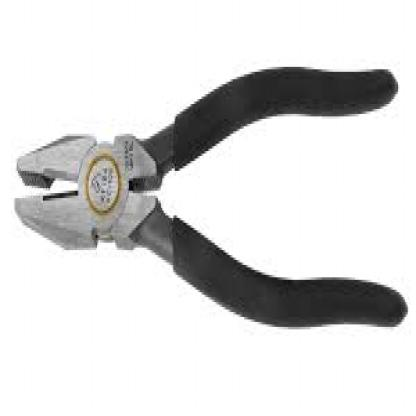Pliers: (11, 47, 410, 337)
